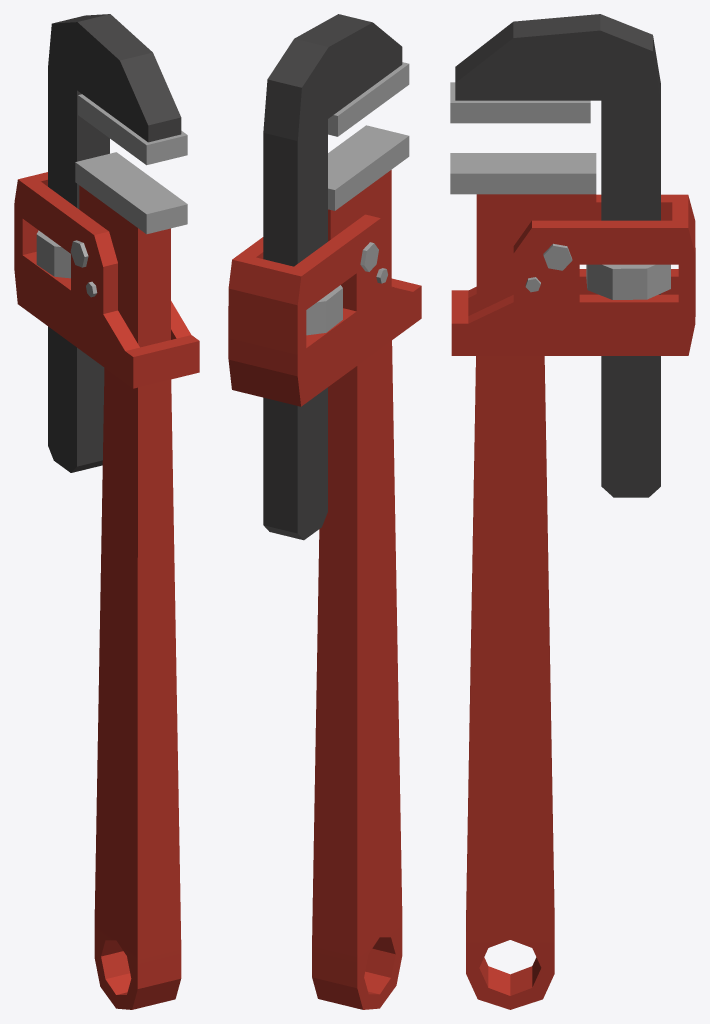
Rendered from Wrench.fbx.
The picture shows the model from 3 angles, left to right: view 1: azimuth 30°, elevation 25°; view 2: azimuth 150°, elevation 25°; view 3: azimuth 270°, elevation 25°; orthographic projection. The views are drawn at different scales.
Parts seen in each view (by area): view 1: GazKluch, pCube2, pCube9, pCube6, pCube7, pCylinder3; view 2: GazKluch, pCube2, pCube9, pCube6, pCube7, pCylinder3; view 3: GazKluch, pCube2, pCube9, pCube6, pCube7, pCylinder3, pCylinder5.
Boxes of the visible parts, x1,y1,x2,y2 form: GazKluch: [79, 185, 181, 1009]; pCube2: [48, 14, 181, 472]; pCube9: [14, 172, 199, 388]; pCube6: [75, 152, 187, 234]; pCube7: [78, 94, 187, 165]; pCylinder3: [36, 230, 70, 278]; GazKluch: [312, 170, 402, 1009]; pCube2: [263, 14, 402, 540]; pCube9: [228, 214, 421, 406]; pCube6: [328, 125, 409, 210]; pCube7: [328, 62, 409, 136]; pCylinder3: [306, 285, 342, 335]; GazKluch: [466, 194, 596, 1009]; pCube2: [455, 14, 660, 497]; pCube9: [451, 194, 695, 355]; pCube6: [450, 153, 596, 194]; pCube7: [450, 82, 590, 123]; pCylinder3: [586, 264, 670, 299]; pCylinder5: [543, 243, 572, 270].
Bounding box in the file's own units: 1.56 × 19.14 × 4.36.
